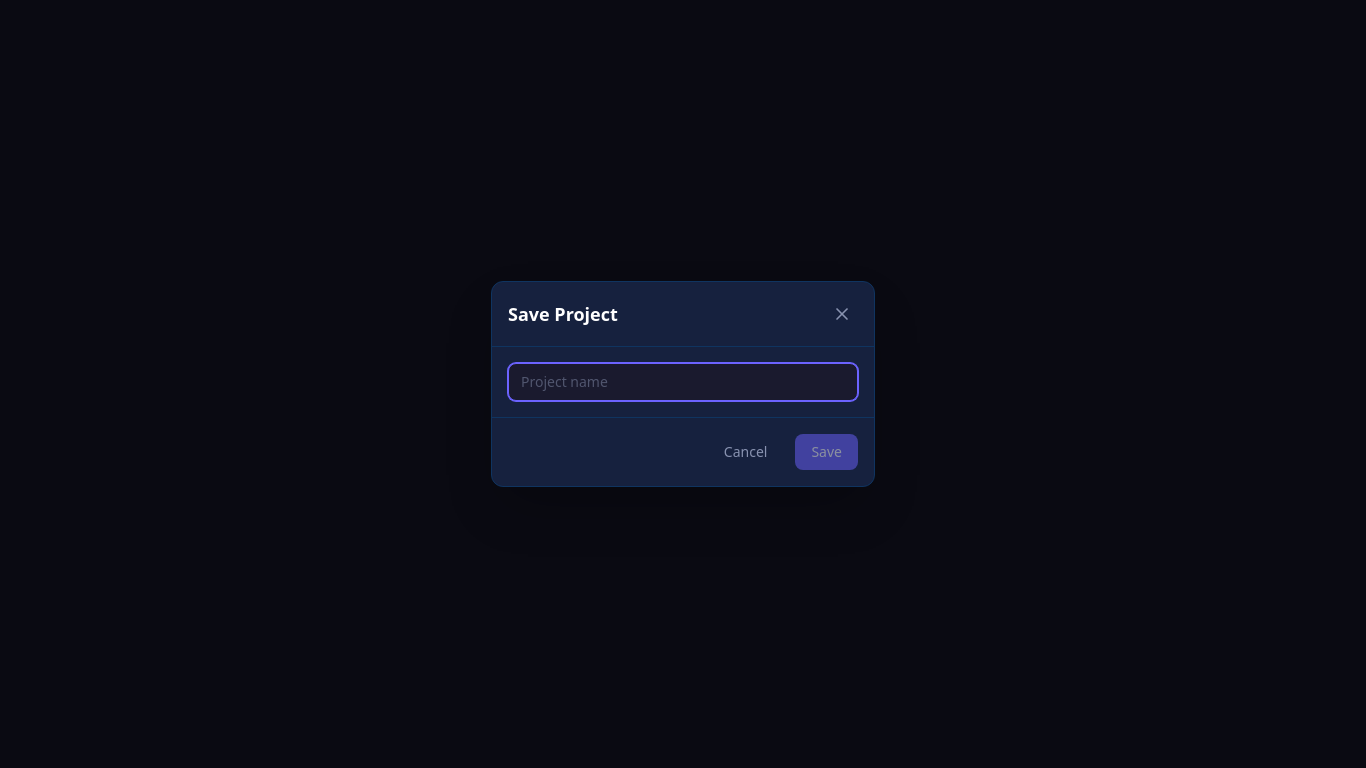
SaveProjectModal › save button is enabled when input has text
Type "A" into the field with test id "project-name-input".
click(683, 382); type("A")  # box [508,363,858,401]
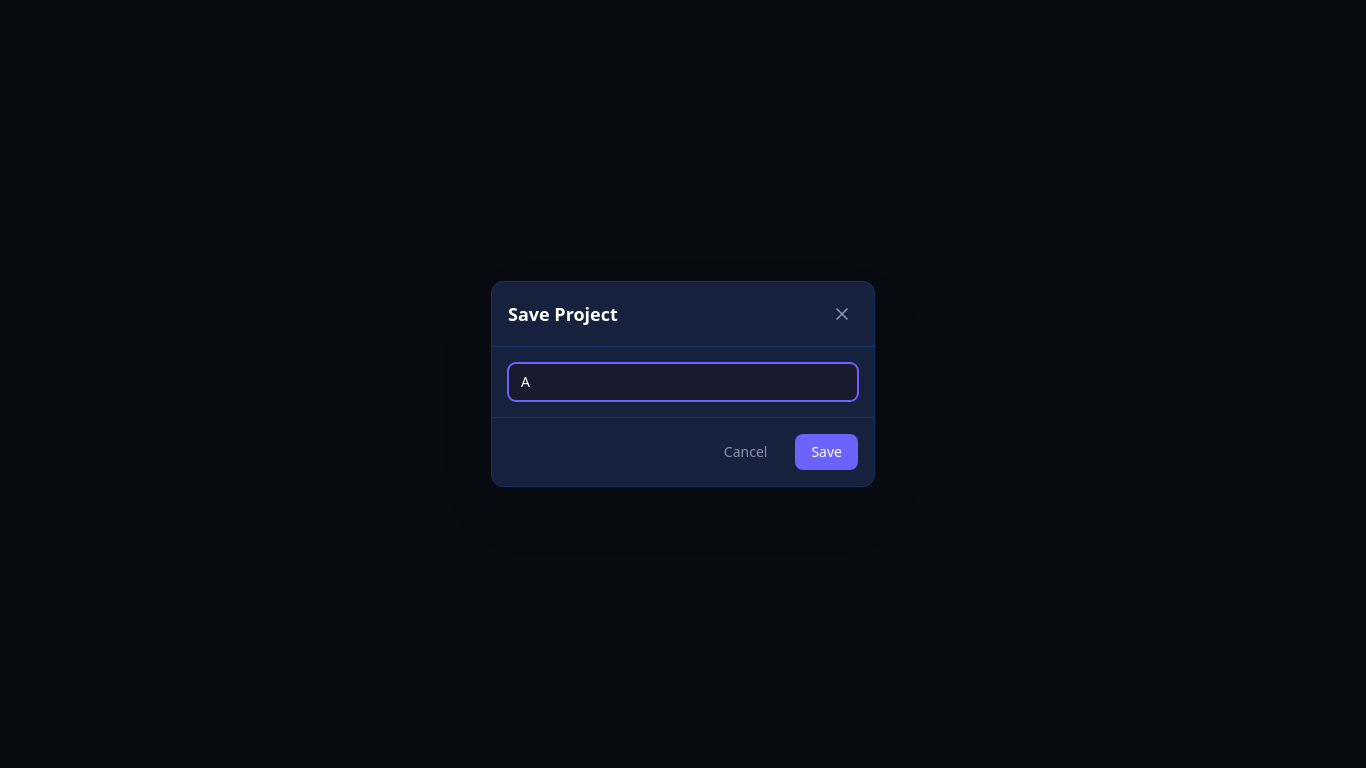
Result: the button with test id "save-project-submit" is enabled at [795,434,858,470]
